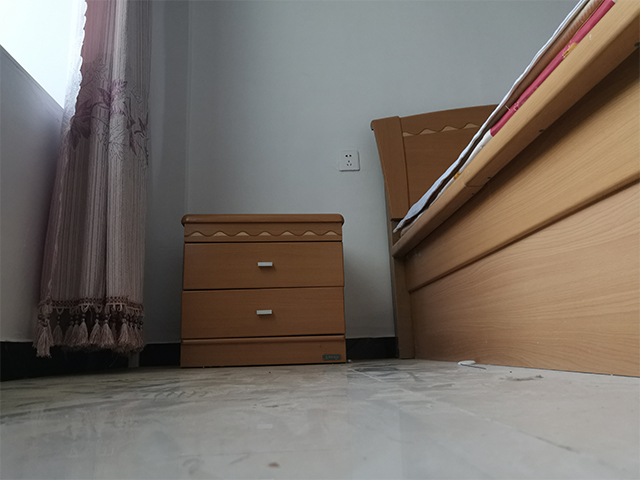bed: (368, 1, 639, 378)
cabinet: (177, 212, 350, 369)
curtain: (28, 1, 154, 362)
